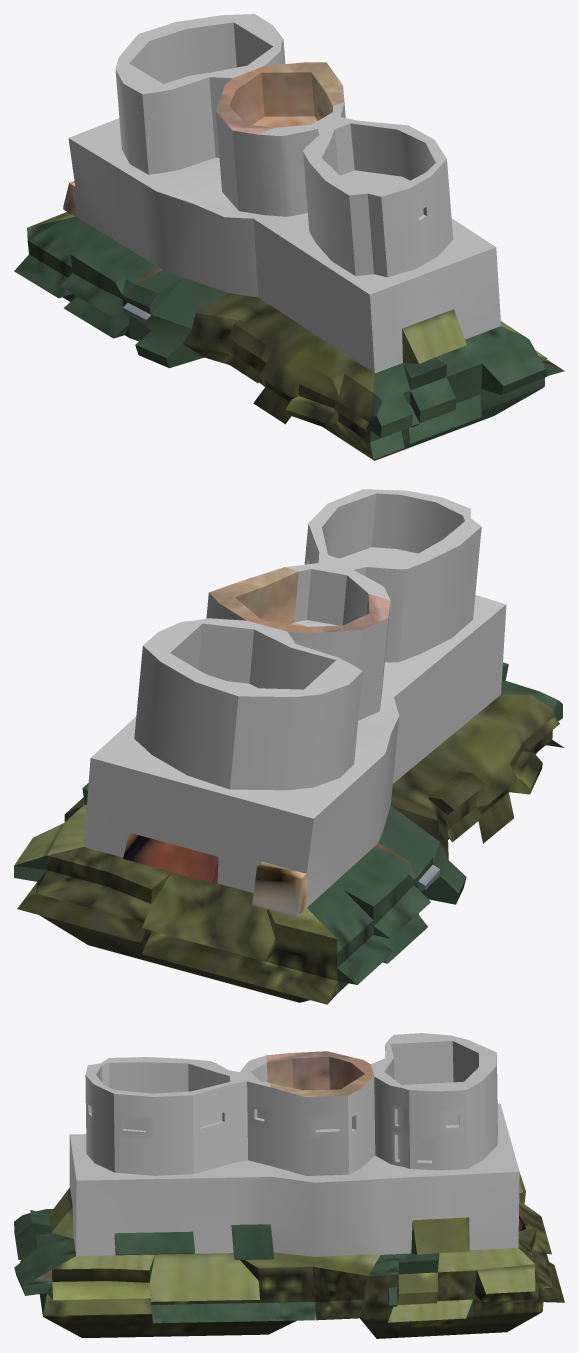
File: Barracks9.fbx
3 views of the same model, one above another, from view 1: azimuth 30°, elevation 25°; view 2: azimuth 150°, elevation 25°; view 3: azimuth 270°, elevation 25° (orthographic). The views are drawn at different scales.
Visible parts, largest first — view 1: Cube_010.009; view 2: Cube_010.009; view 3: Cube_010.009.
Boxes of the visible parts, <box> form: Cube_010.009: <box>14,14,564,460</box>; Cube_010.009: <box>14,489,564,1004</box>; Cube_010.009: <box>14,1033,564,1338</box>.
Size of the model in its own units: 41.84 by 35.44 by 71.83.
